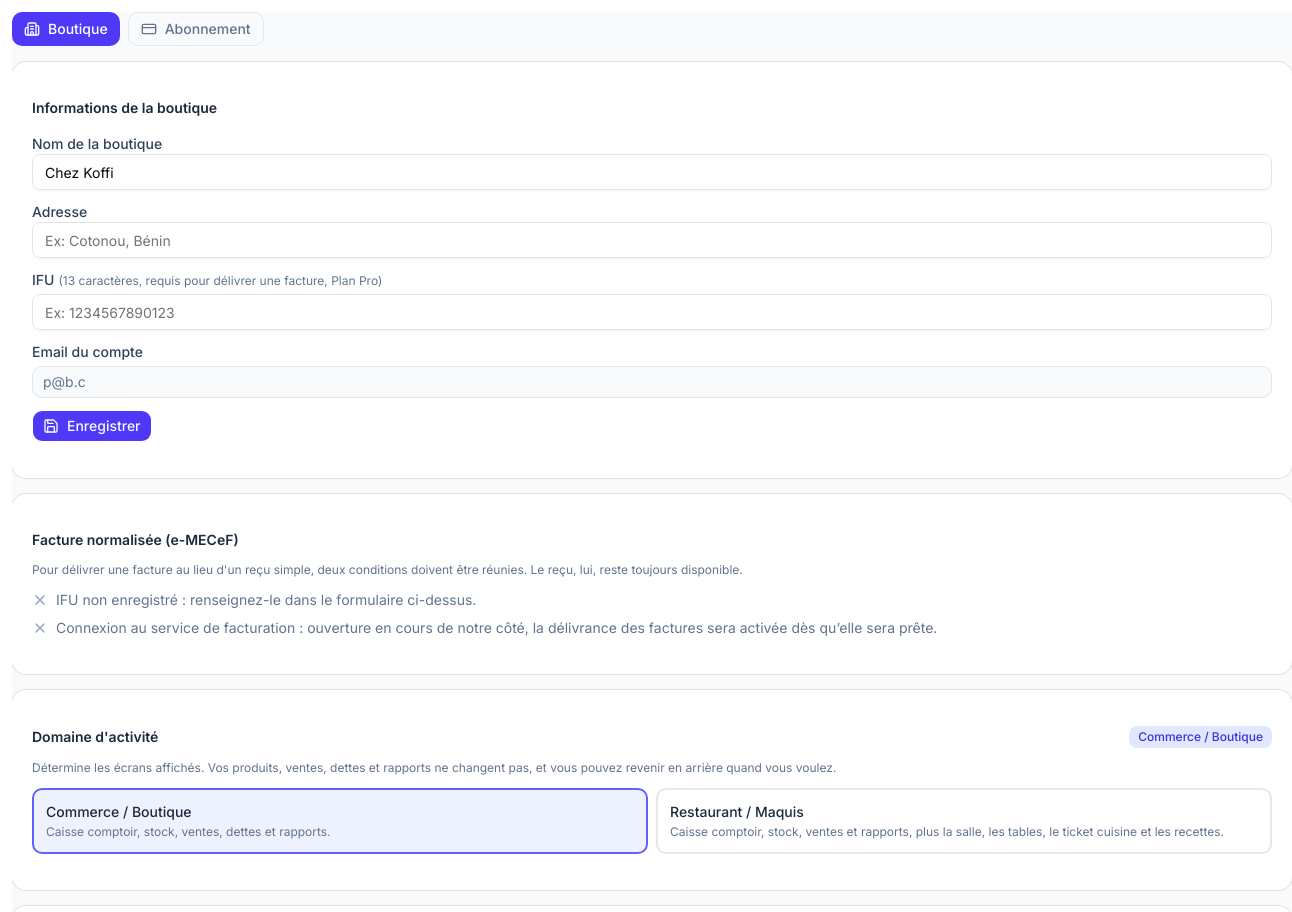
Test: SettingsModule — facturation › signale une erreur de facturation au lieu de bloquer
Click the tab "Abonnement" at point(196, 29), box [128,12,264,46]
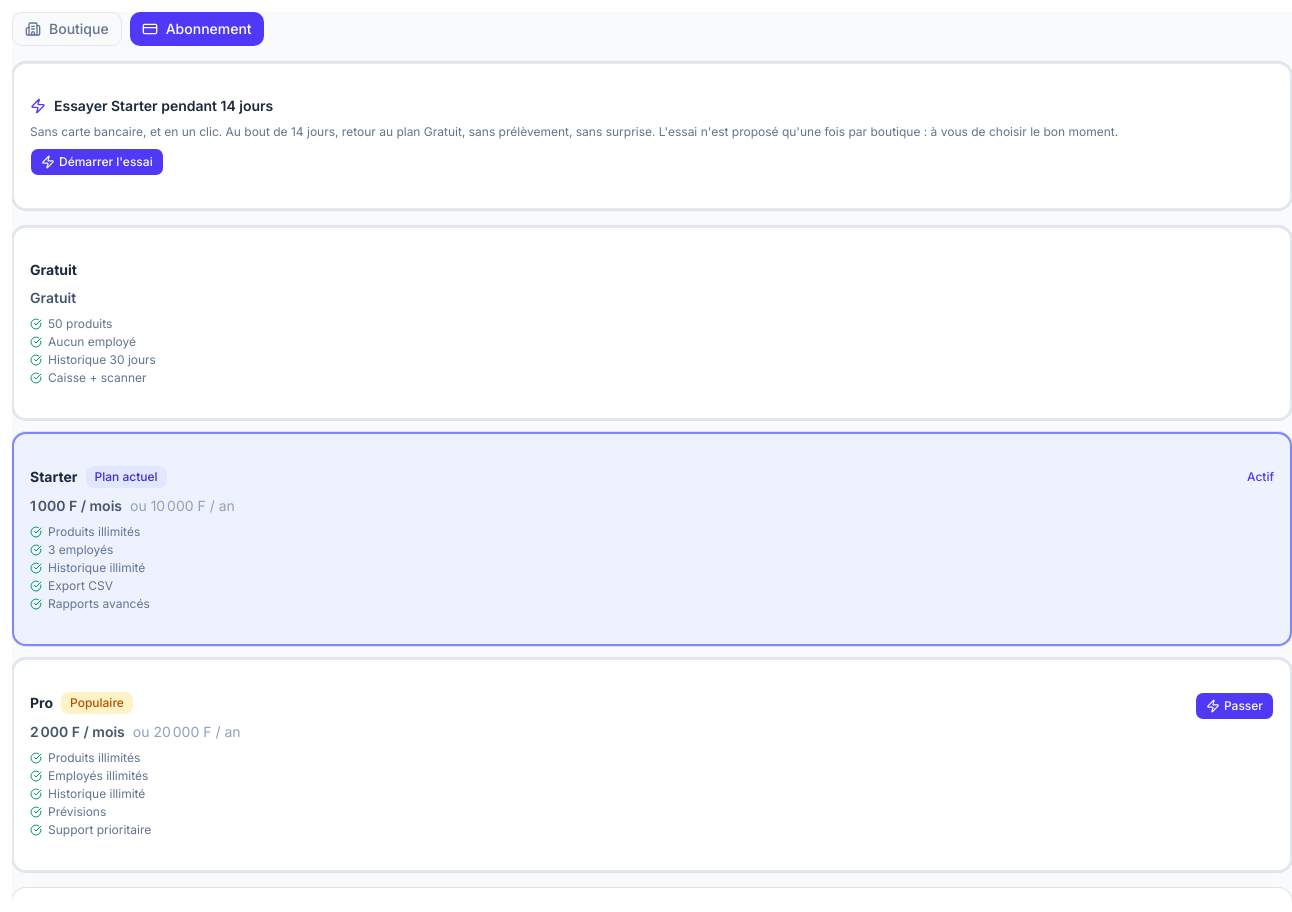
Click the button "Passer" at point(1234, 706), box [1195,692,1274,720]
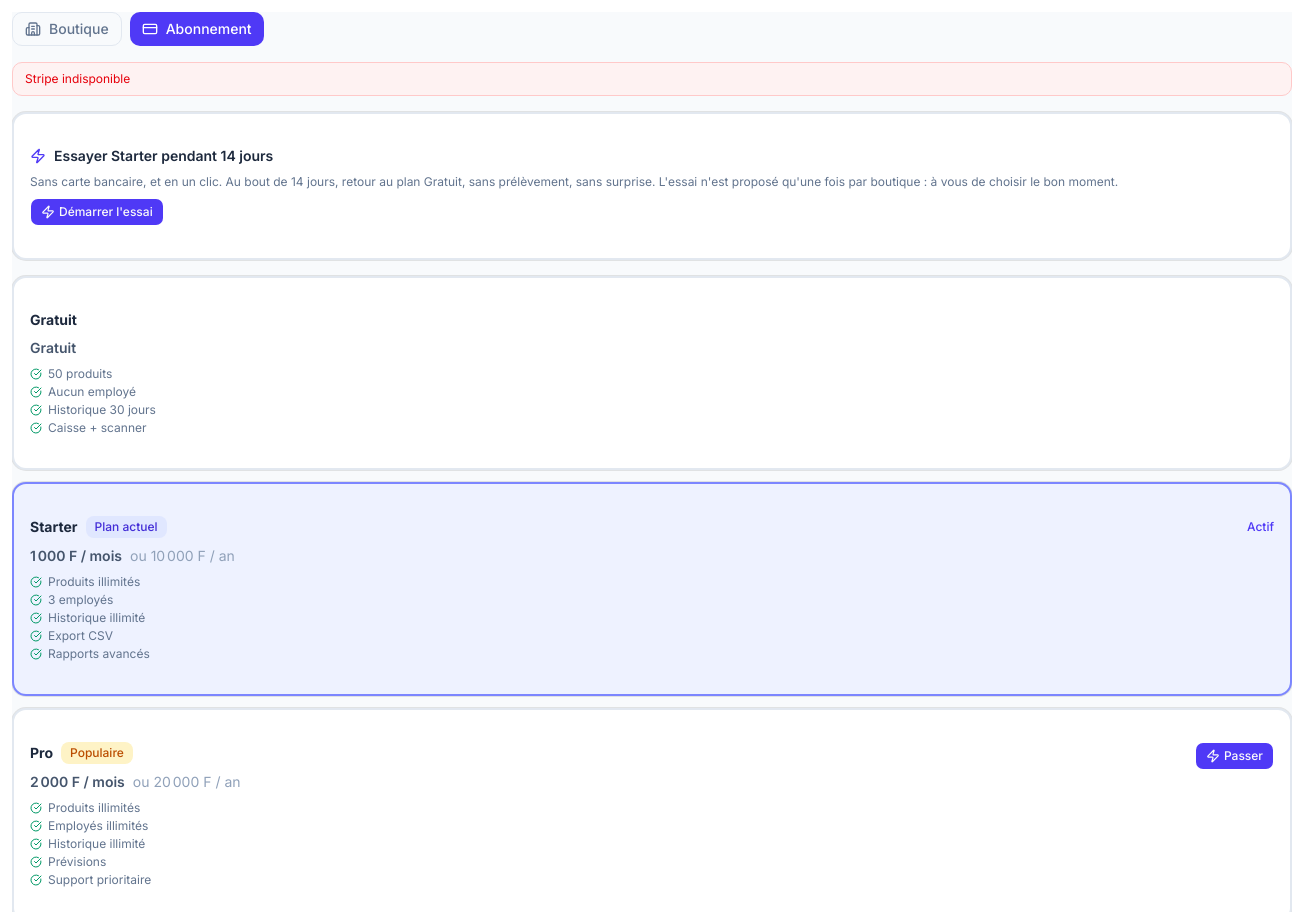
expect the text "Stripe indisponible" is shown: met, box [12,62,1291,96]
